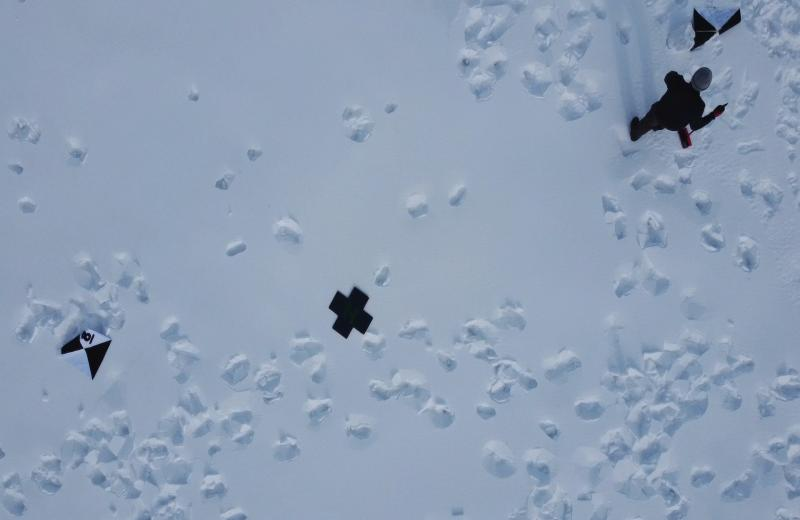Cross: (329, 285, 374, 339)
